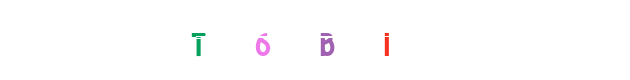6: (252, 0, 332, 80)
B: (275, 0, 355, 80)
I: (346, 0, 426, 80)
T: (158, 0, 238, 80)
